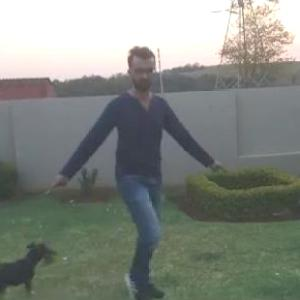land: (68, 46, 216, 288)
